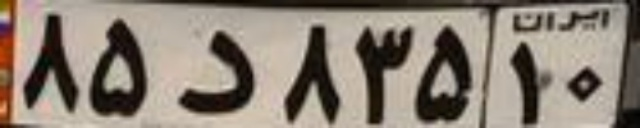0: (561, 64, 606, 103)
1: (508, 39, 538, 126)
3: (353, 24, 413, 125)
5: (85, 17, 148, 115), (415, 26, 473, 122)
8: (280, 22, 340, 123), (23, 12, 78, 111)
dal: (168, 29, 255, 116)
